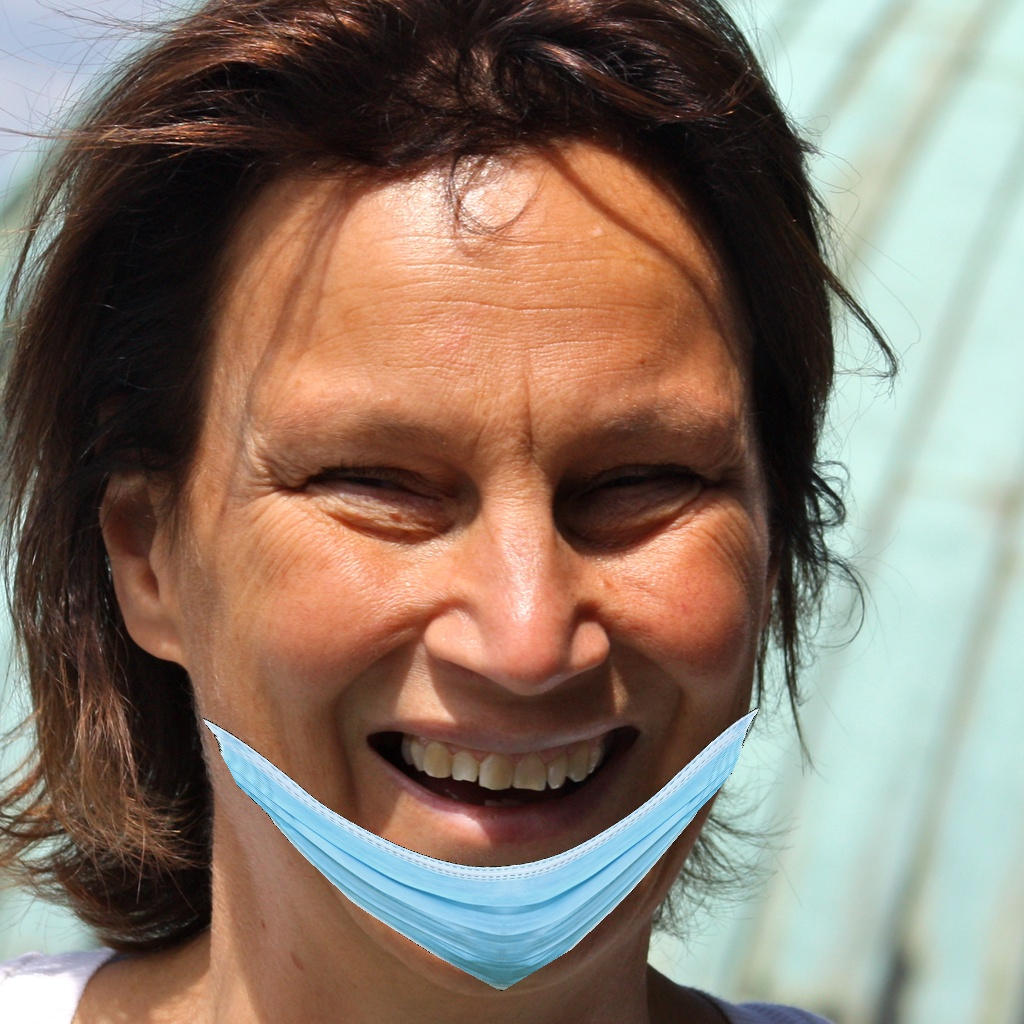mascarilla_mal_puesta: (164, 395, 784, 1008)
